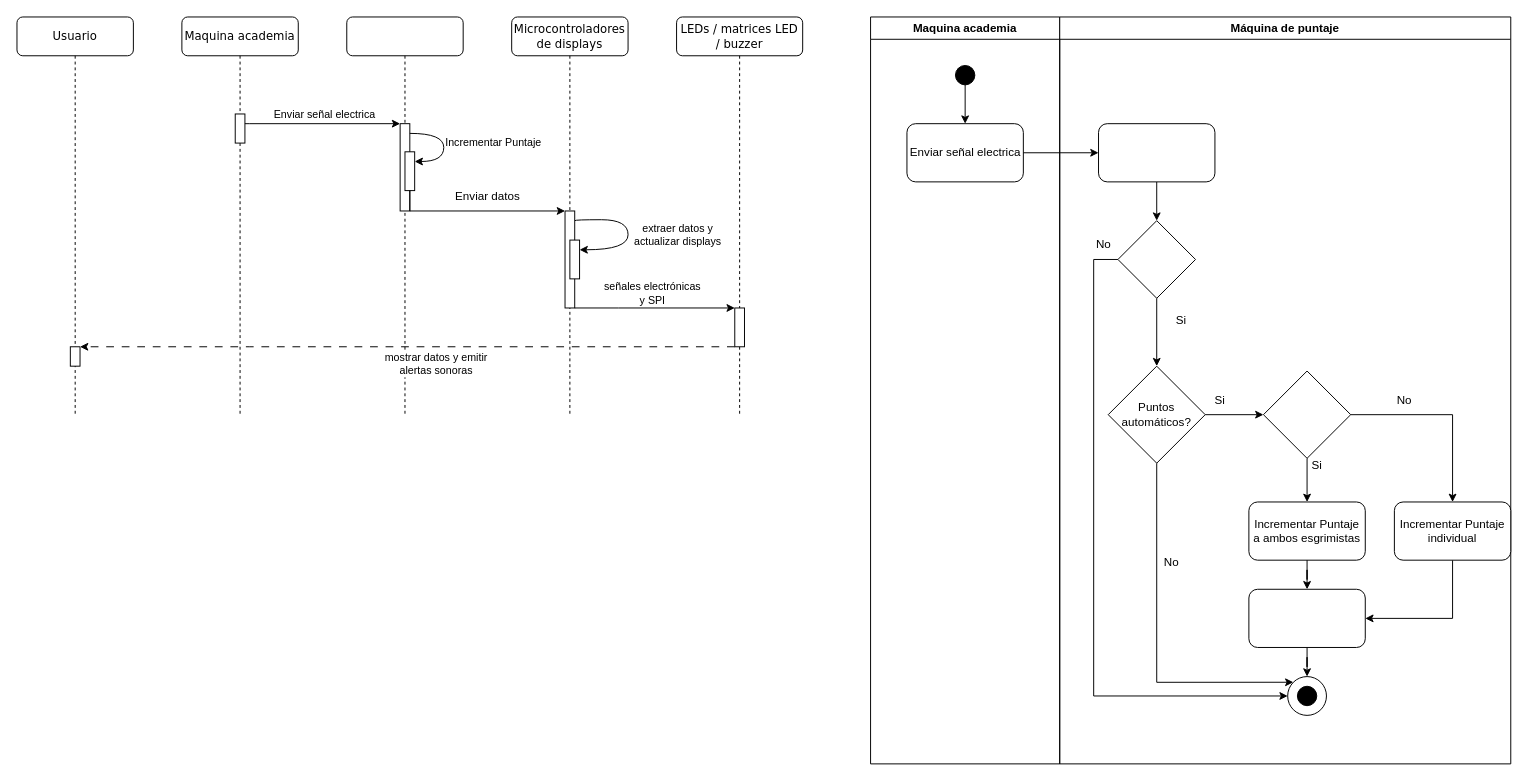
The diagram is 1528 pixels wide and 781 high, and some of its shapes have lost their labels. Here are the shapes that lost their labels. From the top down, the centre of each, then its label:
At [1156,152]: "Recibir señal de toque".
At [404,215]: "Unidad lógica".
At [1156,259]: "Toque válido?".
At [1306,414]: "Toque simultáneo?".
At [1306,617]: "Actualizar displays".
